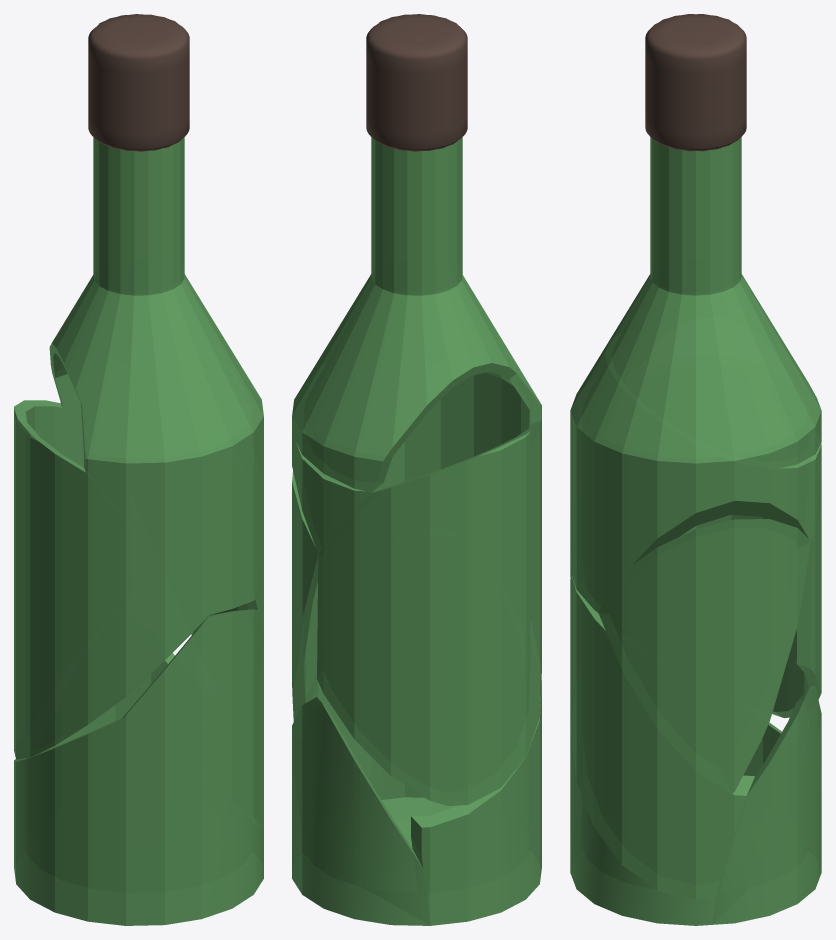
Rendered from edgebottleexploded.fbx.
The picture shows the model from 3 angles, left to right: view 1: azimuth 30°, elevation 25°; view 2: azimuth 150°, elevation 25°; view 3: azimuth 270°, elevation 25°; orthographic projection.
Parts seen in each view (by area): view 1: pCylinder17.003_cell.005, pCylinder17.003_cell.002, pCylinder17.003_cell, pCylinder17.003_cell.004, pCylinder17.003_cell.006, pCylinder18.003, pCylinder17.003_cell.001, pCylinder17.003_cell.003; view 2: pCylinder17.003_cell.005, pCylinder17.003_cell.004, pCylinder17.003_cell.001, pCylinder17.003_cell.002, pCylinder17.003_cell, pCylinder18.003, pCylinder17.003_cell.003, pCylinder17.003_cell.006; view 3: pCylinder17.003_cell.004, pCylinder17.003_cell.003, pCylinder17.003_cell, pCylinder17.003_cell.006, pCylinder17.003_cell.001, pCylinder18.003, pCylinder17.003_cell.002, pCylinder17.003_cell.005.
Part boxes in pixels (x1,y1,x2,y2): pCylinder17.003_cell.005: (14,400,209,759); pCylinder17.003_cell.002: (14,718,263,925); pCylinder17.003_cell: (60,371,263,614); pCylinder17.003_cell.004: (49,137,243,404); pCylinder17.003_cell.006: (122,609,263,827); pCylinder18.003: (88,14,189,151); pCylinder17.003_cell.001: (45,653,174,750); pCylinder17.003_cell.003: (191,539,263,635); pCylinder17.003_cell.005: (317,420,541,805); pCylinder17.003_cell.004: (292,137,516,491); pCylinder17.003_cell.001: (292,697,430,925); pCylinder17.003_cell.002: (366,680,541,925); pCylinder17.003_cell: (292,360,541,553); pCylinder18.003: (366,14,467,151); pCylinder17.003_cell.003: (292,471,318,721); pCylinder17.003_cell.006: (312,682,378,774); pCylinder17.003_cell.004: (605,137,821,468); pCylinder17.003_cell.003: (598,519,810,793); pCylinder17.003_cell: (570,342,821,612); pCylinder17.003_cell.006: (570,576,754,900); pCylinder17.003_cell.001: (712,685,821,924); pCylinder18.003: (645,14,746,151); pCylinder17.003_cell.002: (570,722,781,925); pCylinder17.003_cell.005: (570,466,821,718).
Size of the model in its own units: 2600 by 9603 by 2600.
